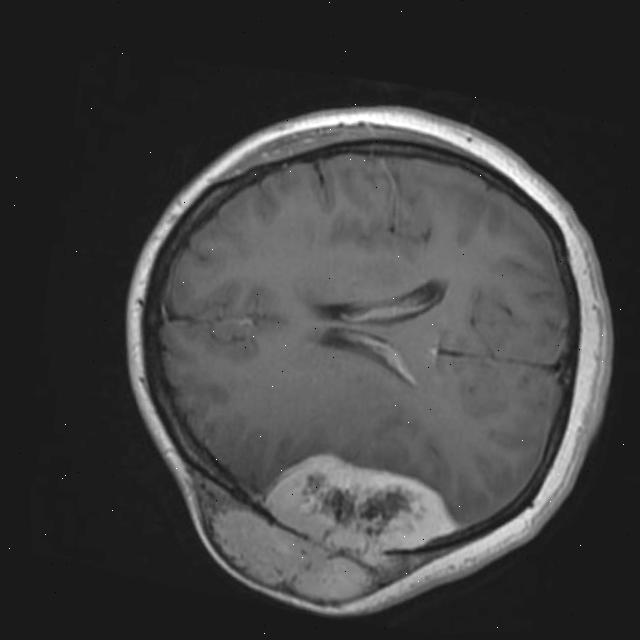Meningioma: (190, 427, 476, 627)
